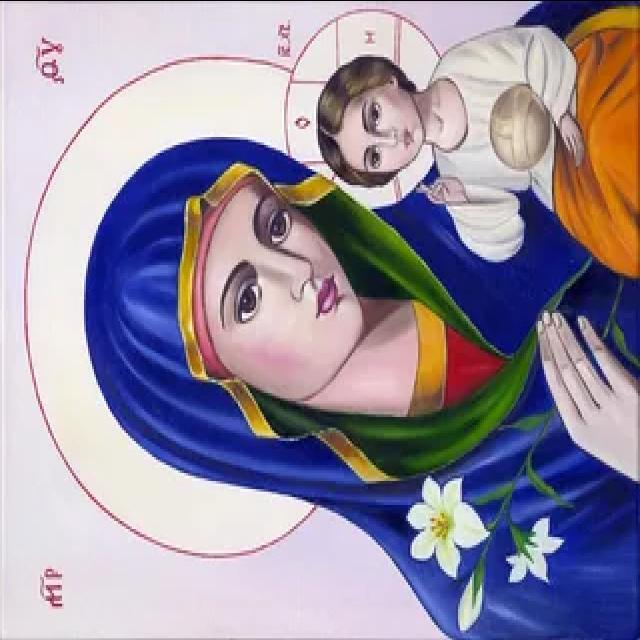mother of god: (82, 0, 640, 640)
